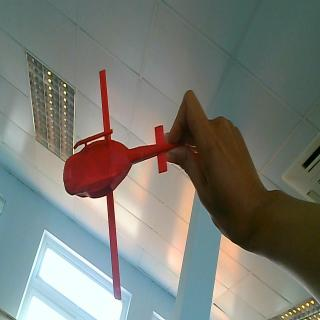Helicopter: (62, 68, 168, 300)
